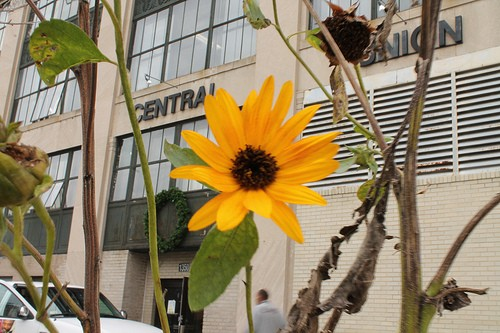flower: (169, 75, 339, 246)
